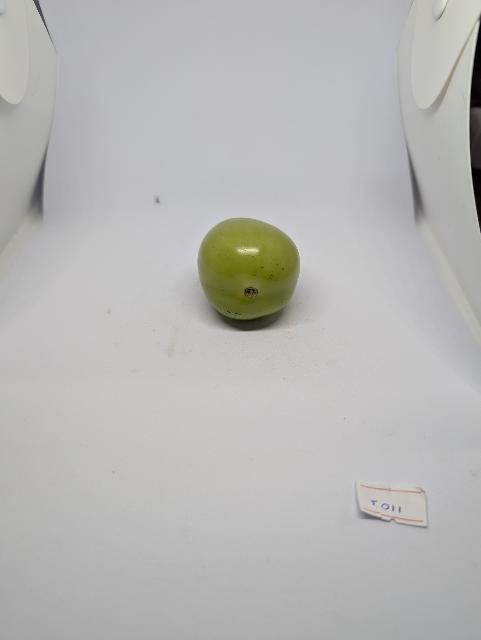green: (195, 214, 302, 323)
